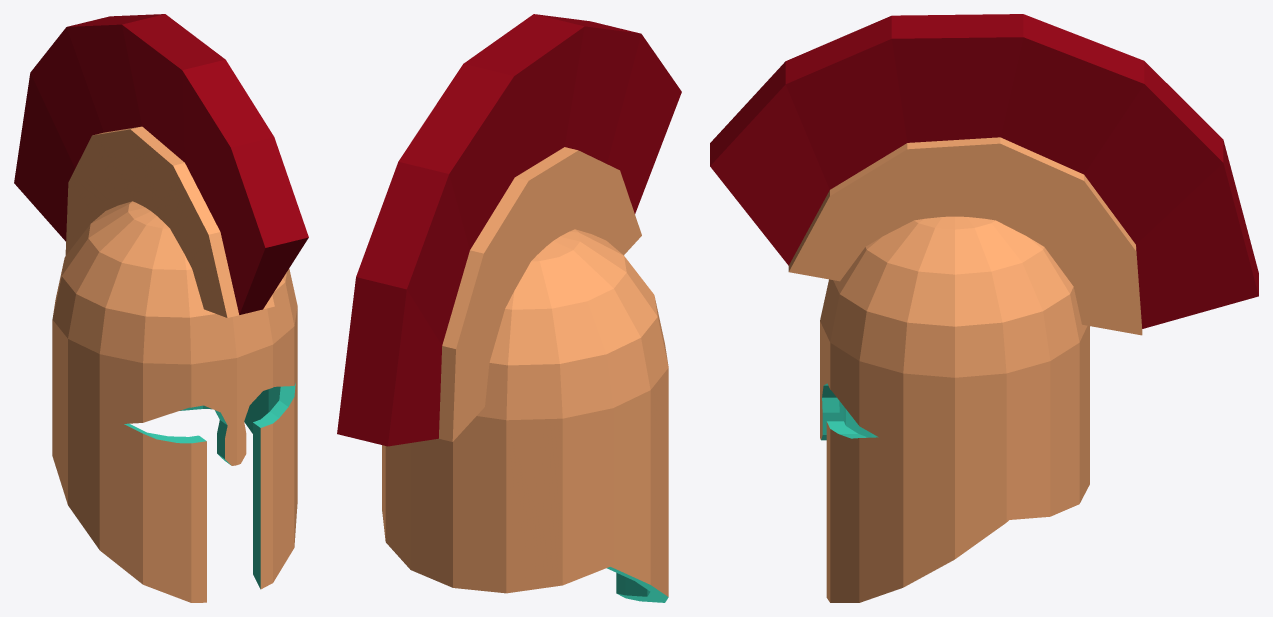
Rendered from SpaHelm1.fbx.
3 renders of one model, left to right at view 1: azimuth 30°, elevation 25°; view 2: azimuth 150°, elevation 25°; view 3: azimuth 270°, elevation 25°, orthographic. The views are drawn at different scales.
Parts seen in each view (by area): view 1: Spartan Helmet; view 2: Spartan Helmet; view 3: Spartan Helmet.
Part boxes in pixels (bbox=[...]): Spartan Helmet: bbox=[14, 14, 308, 602]; Spartan Helmet: bbox=[337, 14, 681, 602]; Spartan Helmet: bbox=[710, 14, 1258, 602].
Bounding box in the file's own units: 200 × 456 × 407.
